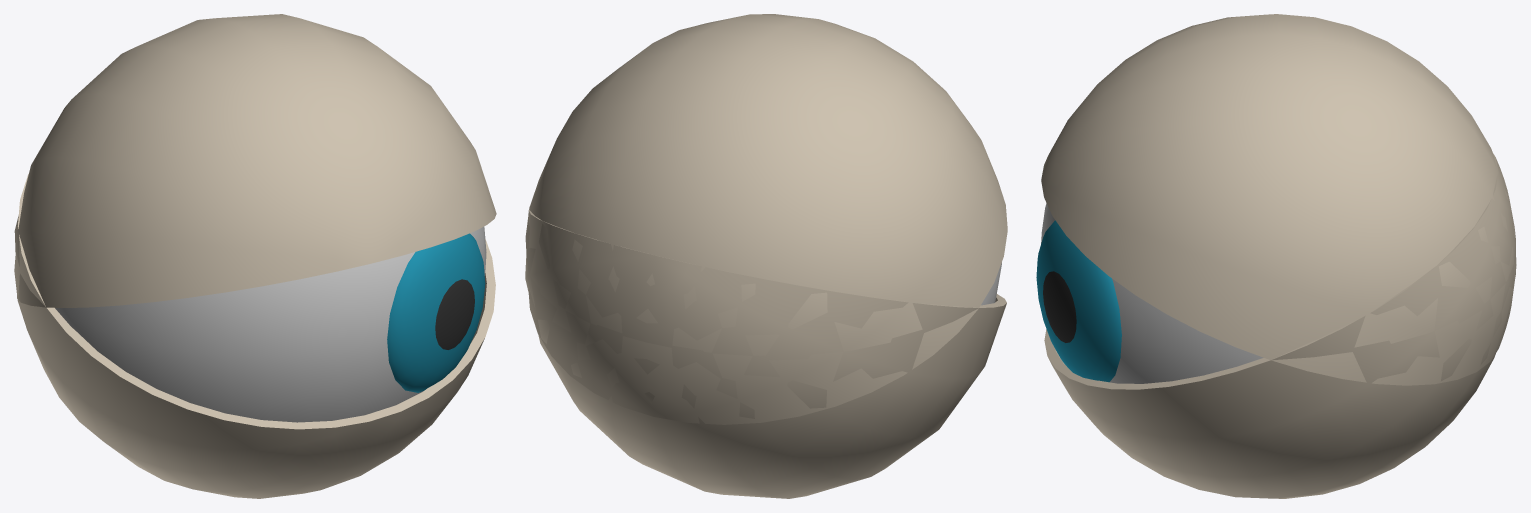
The model's file is Eye_LookRight.fbx.
3 renders of one model, left to right at view 1: azimuth 30°, elevation 25°; view 2: azimuth 150°, elevation 25°; view 3: azimuth 270°, elevation 25°, orthographic.
Parts seen in each view (by area): view 1: upperEyeLid, Eye, lowerEyeLid, Iris, Pupil; view 2: upperEyeLid, lowerEyeLid; view 3: upperEyeLid, lowerEyeLid, Eye, Iris, Pupil.
Boxes of the visible parts, box(x1,y1,x2,y2) form: upperEyeLid: box(14, 14, 496, 307); Eye: box(55, 226, 486, 422); lowerEyeLid: box(14, 173, 495, 498); Iris: box(387, 233, 485, 392); Pupil: box(435, 279, 474, 349); upperEyeLid: box(525, 14, 1007, 424); lowerEyeLid: box(525, 210, 1006, 498); upperEyeLid: box(1041, 14, 1516, 385); lowerEyeLid: box(1044, 153, 1515, 498); Eye: box(1041, 203, 1263, 383); Iris: box(1036, 220, 1121, 382); Pupil: box(1043, 271, 1076, 342).
Size of the model in its own units: 25.33 by 25.26 by 24.78.
